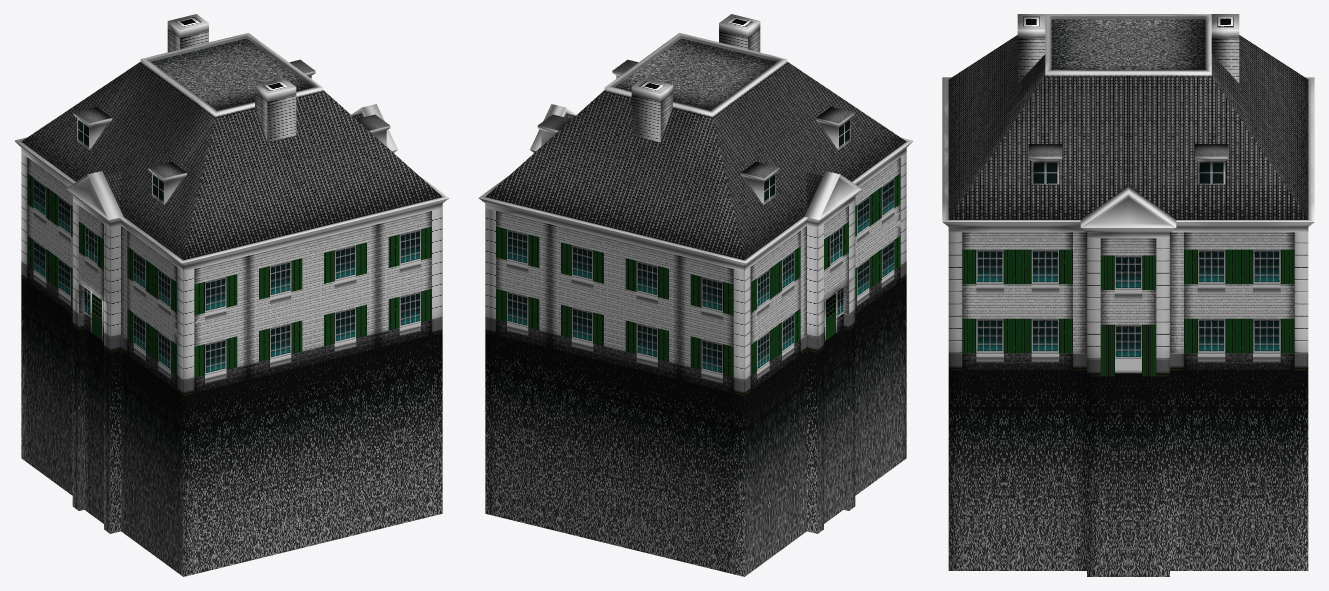
Rendered from landhuis_mod1_1b.fbx.
3 renders of one model, left to right at view 1: azimuth 30°, elevation 25°; view 2: azimuth 150°, elevation 25°; view 3: azimuth 270°, elevation 25°, orthographic. The views are drawn at different scales.
Visible parts, largest first — view 1: landhuis_mod1_1b; view 2: landhuis_mod1_1b; view 3: landhuis_mod1_1b.
Part boxes in pixels (box(x1,y1,x2,y2)): landhuis_mod1_1b: box(14, 14, 449, 576); landhuis_mod1_1b: box(478, 14, 913, 576); landhuis_mod1_1b: box(942, 14, 1314, 576).
Bounding box in the file's own units: 1506 × 2148 × 1512.
